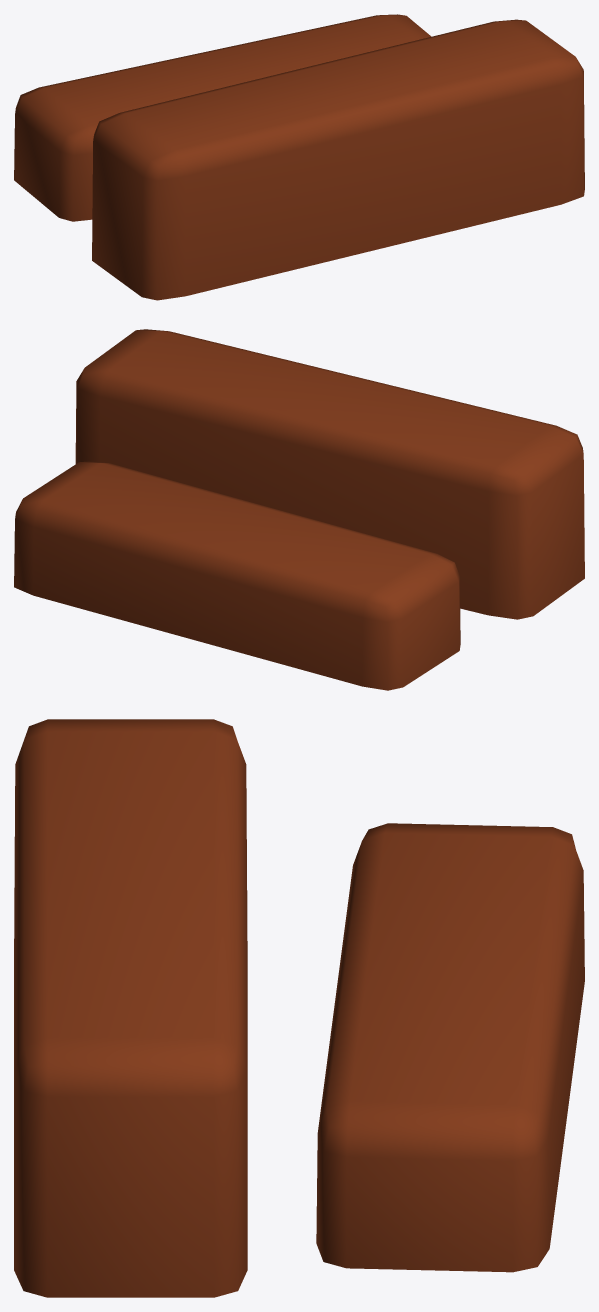
Rendered from steps.glb.
3 views of the same model, one above another, from view 1: azimuth 30°, elevation 25°; view 2: azimuth 150°, elevation 25°; view 3: azimuth 270°, elevation 25° (orthographic). The views are drawn at different scales.
Visible parts, largest first — view 1: steps; view 2: steps; view 3: steps.
Part boxes in pixels (bbox=[...]): steps: bbox=[14, 14, 584, 300]; steps: bbox=[14, 329, 584, 690]; steps: bbox=[14, 719, 584, 1297].
Bounding box in the file's own units: 1.44 × 0.4335 × 0.9647.
1 material, 1 textured.
